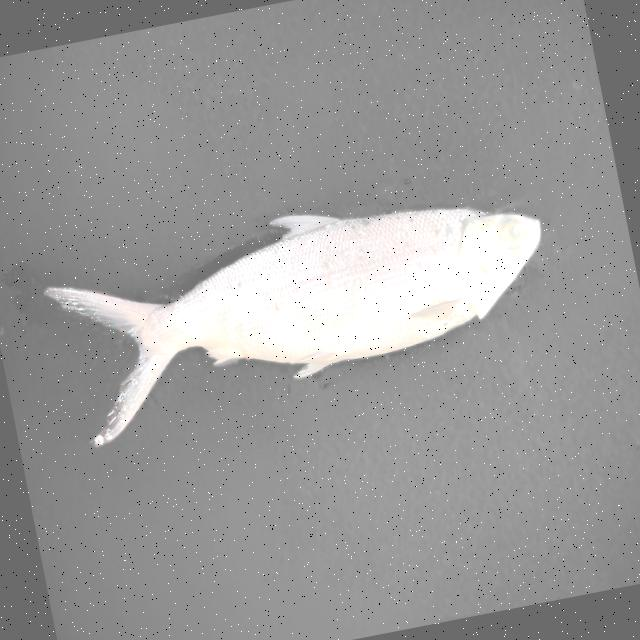850 g: (37, 168, 564, 451)
